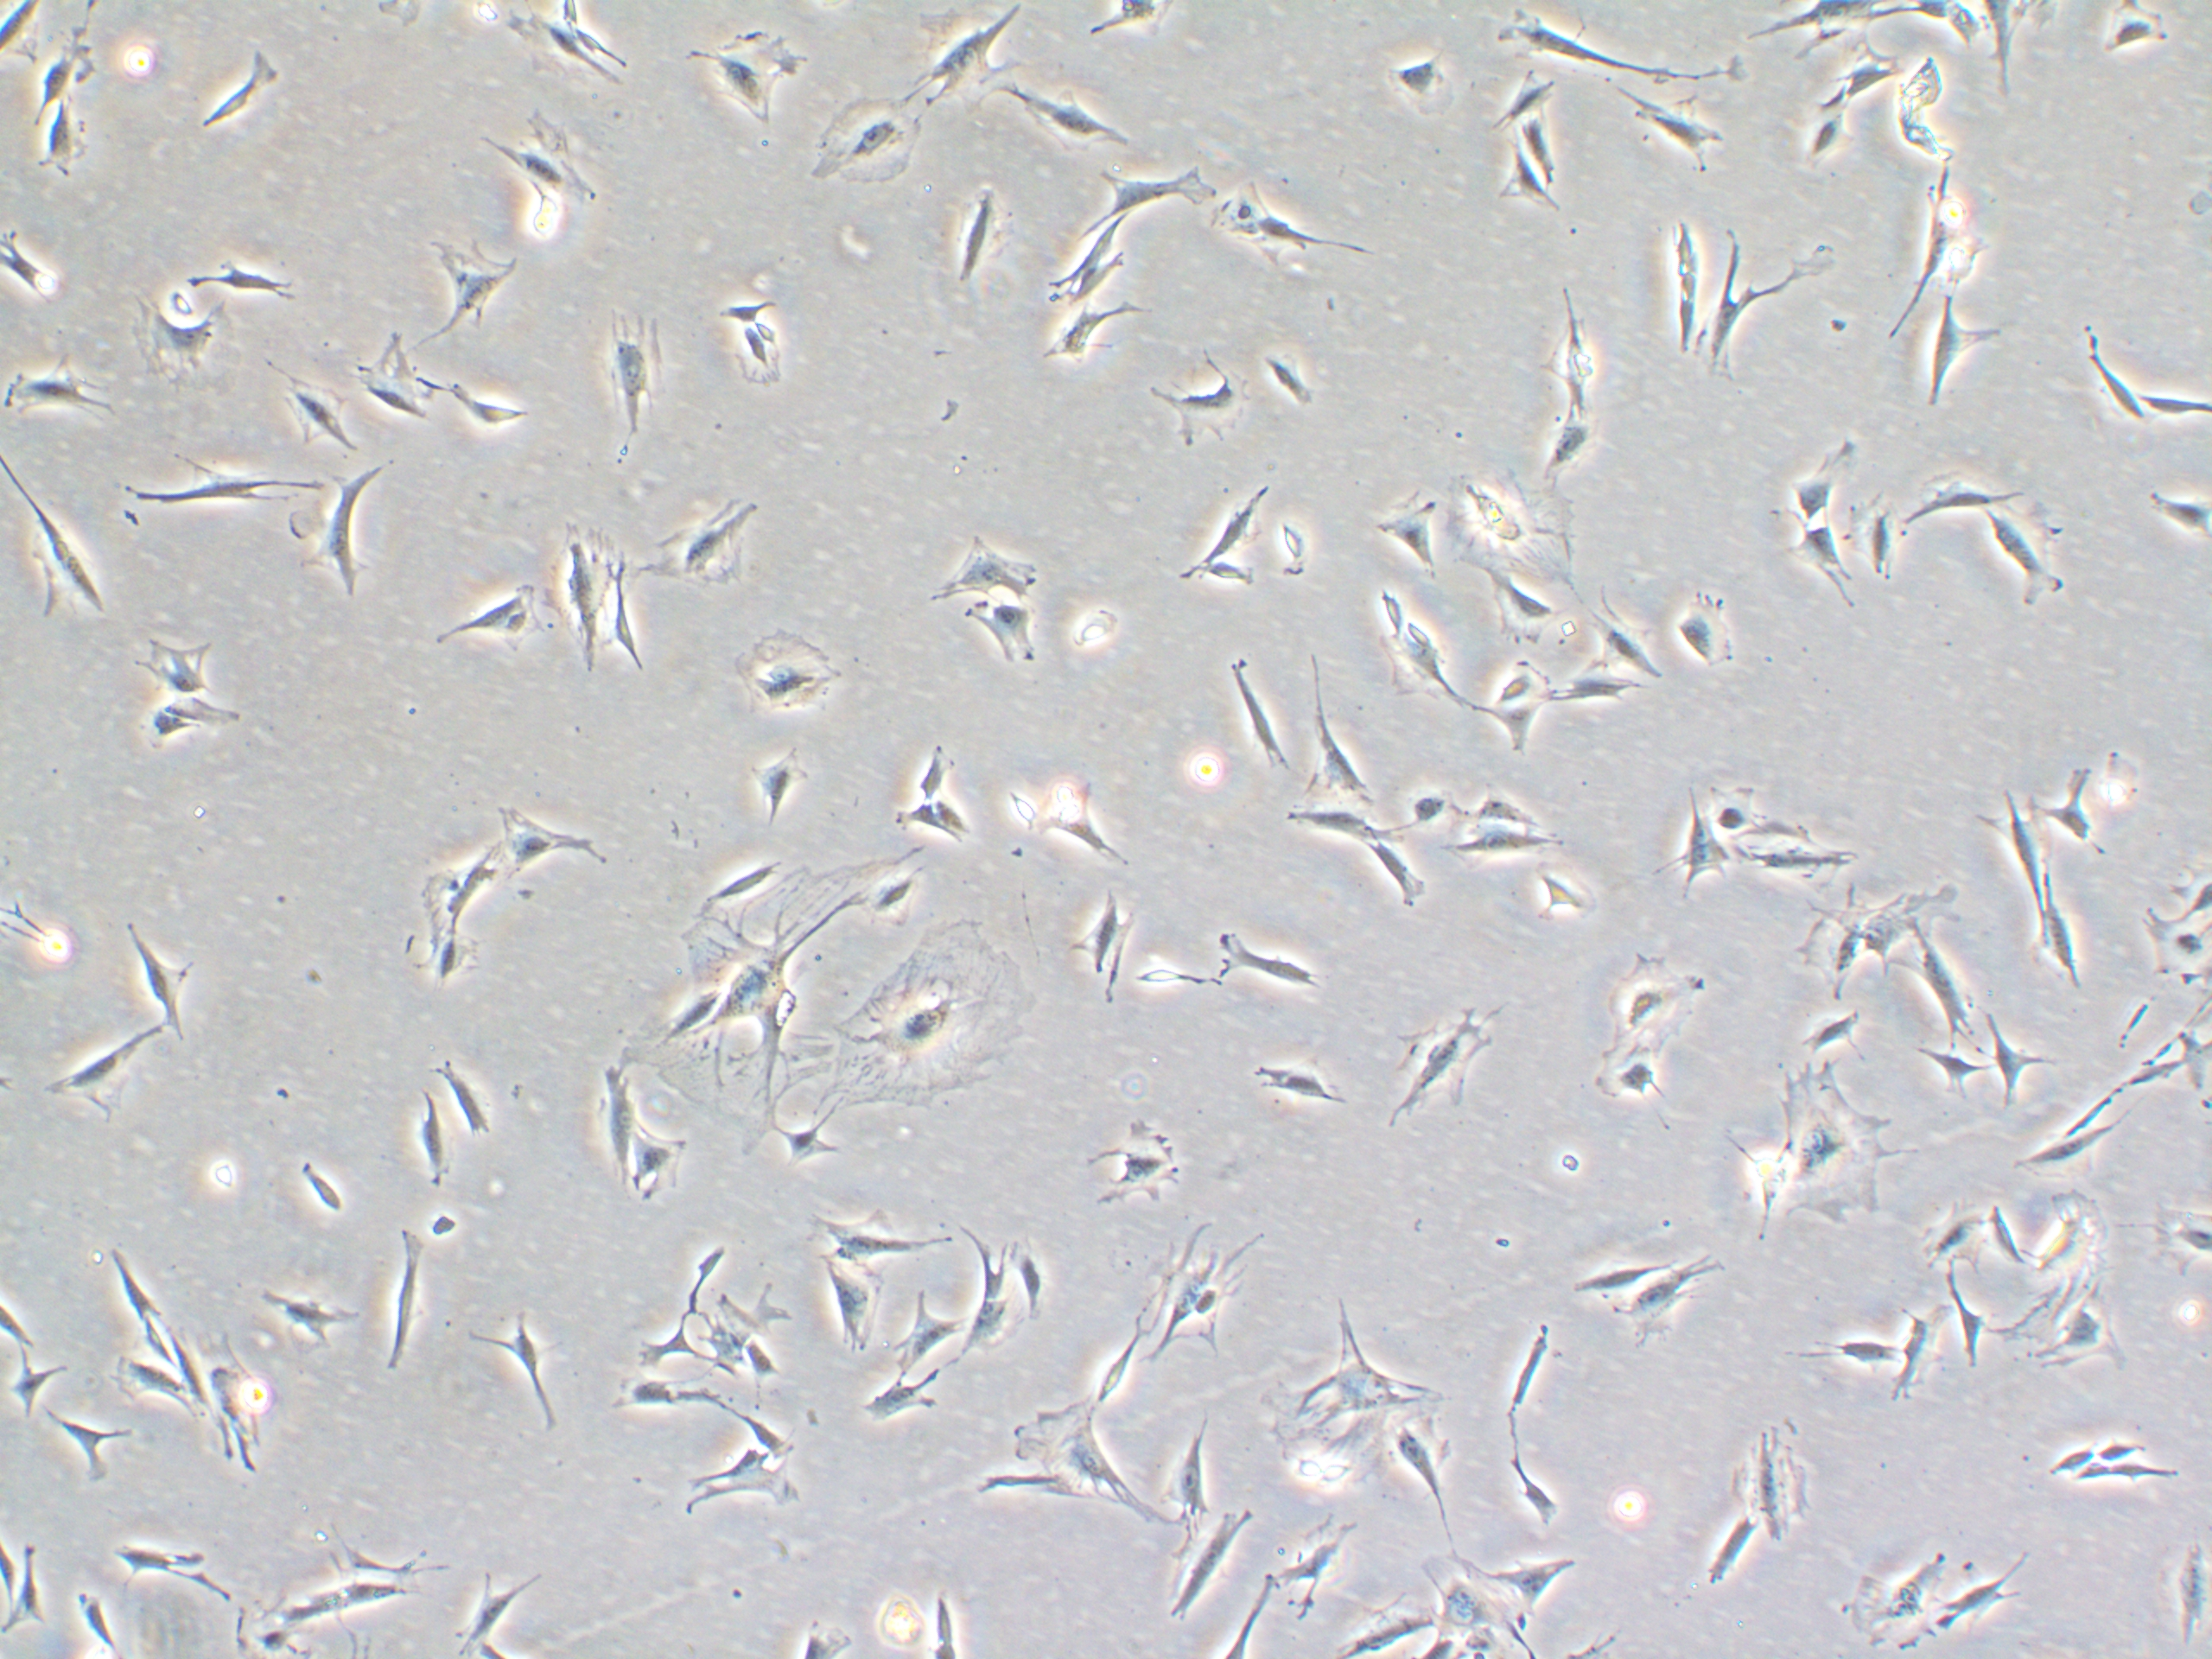small: (446, 369, 540, 444), (1062, 586, 1130, 666), (975, 775, 1049, 842), (1263, 516, 1322, 584), (158, 279, 195, 326)
spread: (812, 915, 1050, 1126), (685, 842, 897, 1056), (1249, 1300, 1440, 1481), (1743, 1061, 1921, 1236), (996, 1385, 1148, 1546), (1442, 467, 1609, 603), (1376, 990, 1512, 1140), (542, 505, 651, 678), (1813, 877, 1973, 988), (894, 0, 1021, 138), (1406, 1532, 1541, 1659), (1982, 1279, 2139, 1389), (1132, 1223, 1261, 1354), (792, 87, 942, 195), (108, 288, 244, 404), (1623, 1237, 1742, 1363), (655, 495, 787, 605), (1827, 1546, 1958, 1654), (721, 619, 843, 727), (679, 23, 805, 127), (1723, 1424, 1822, 1544), (1575, 1028, 1686, 1133), (1590, 948, 1705, 1046), (2022, 1192, 2128, 1295)
